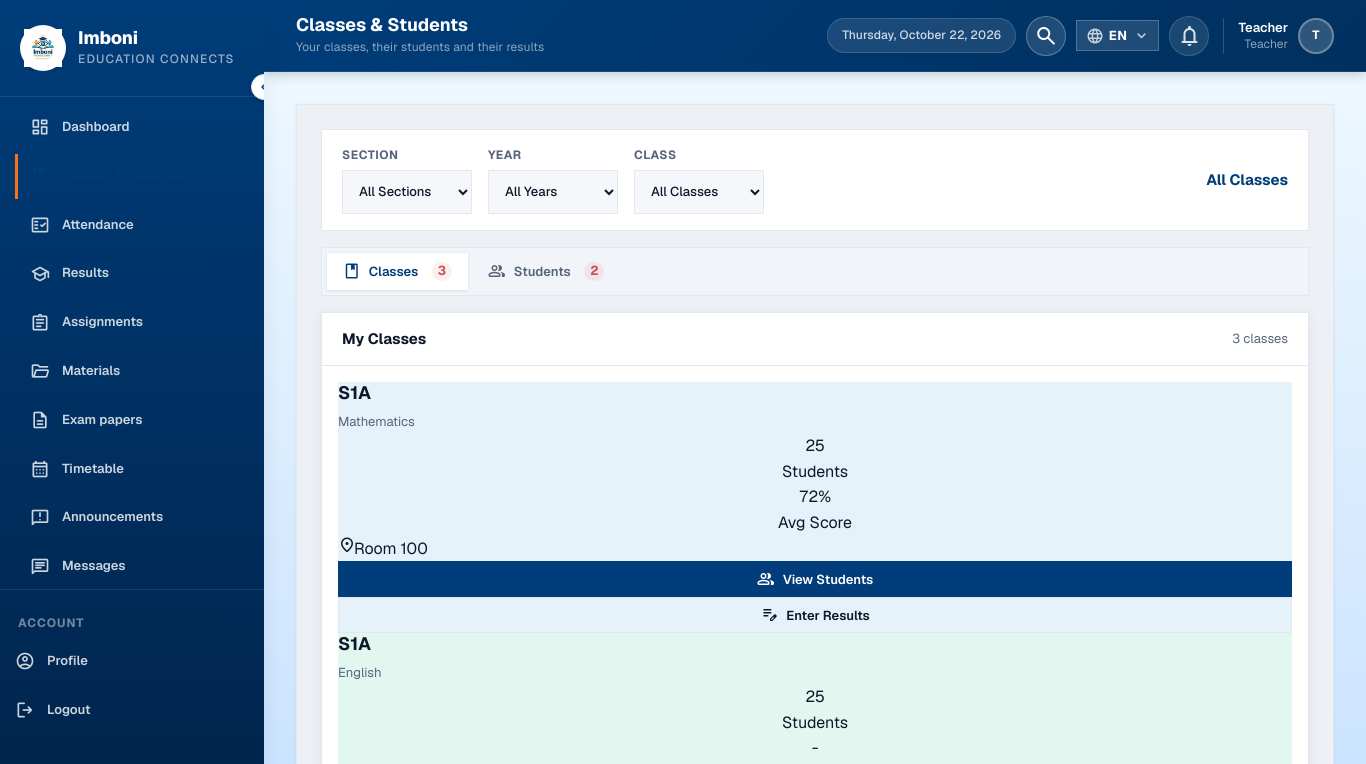
it: TeacherClasses — Classes & Students › students tab › filters students by performance band
This screenshot has width=1366, height=764.
Expected: the text "Mathematics" is shown, [338,412,415,430]
Click the tab "Students 2".
click(546, 272)  # box [472,253,620,290]
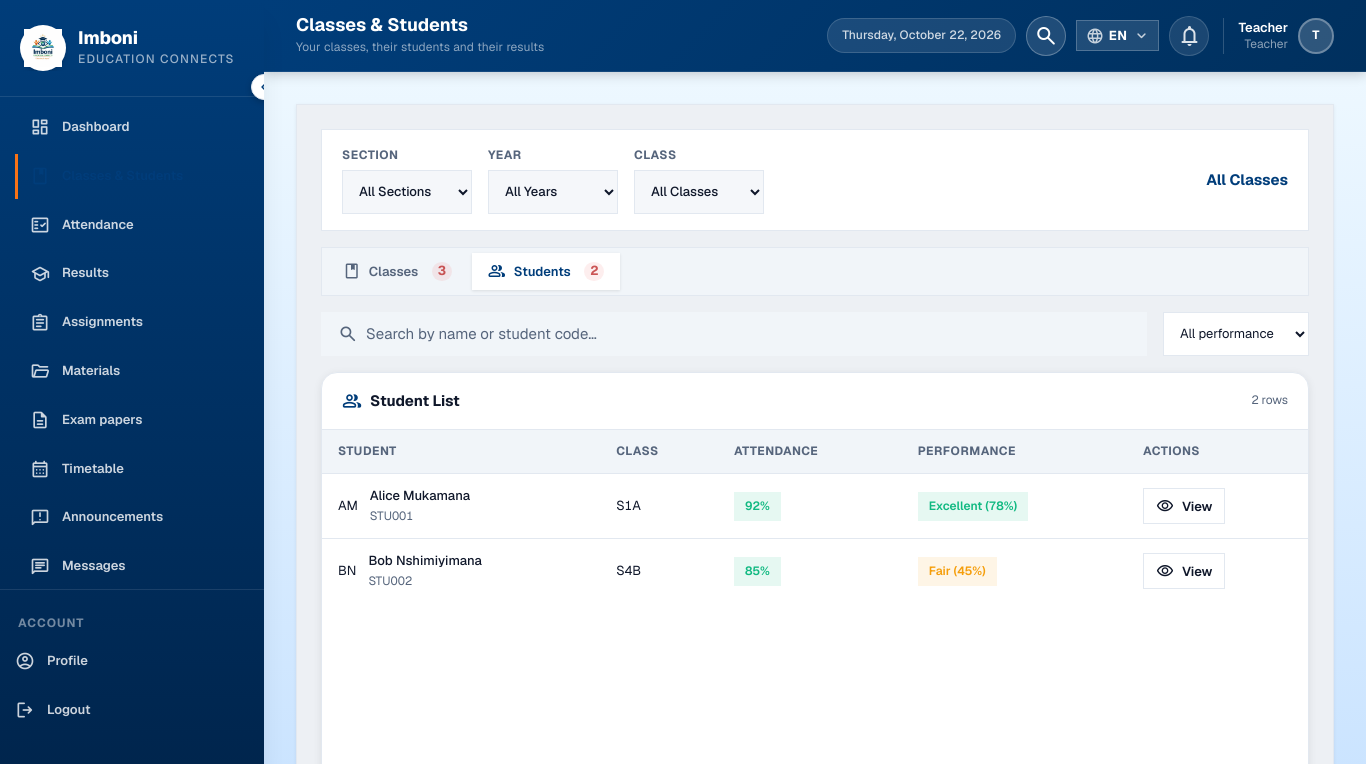
Result: the text "Alice Mukamana" is shown at [370,486,470,507]
Select "Fair (below 50%)" in the dropdown named "Filter by performance" at (1236, 334), box [1163,312,1309,356]
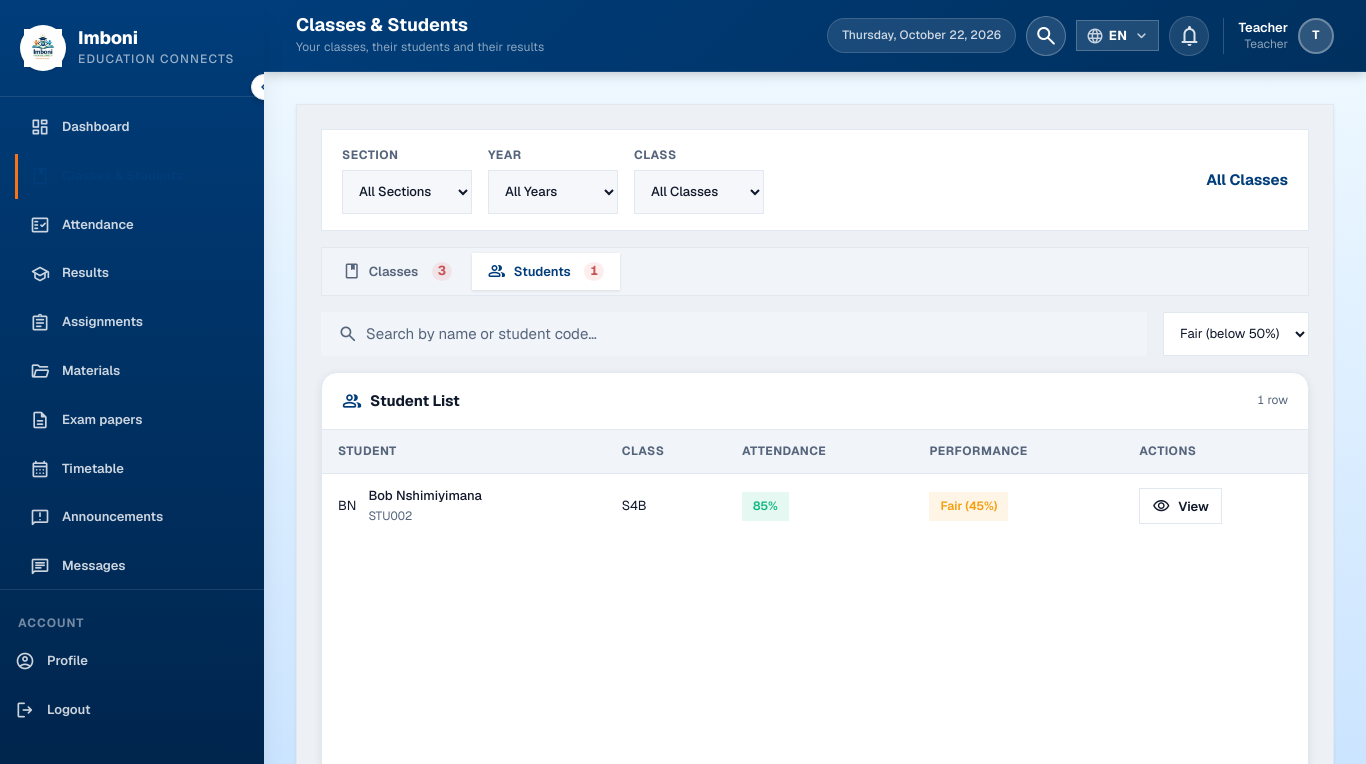
Result: the text "Bob Nshimiyimana" is shown at [368,486,482,507]
Result: the text "Alice Mukamana" is gone
